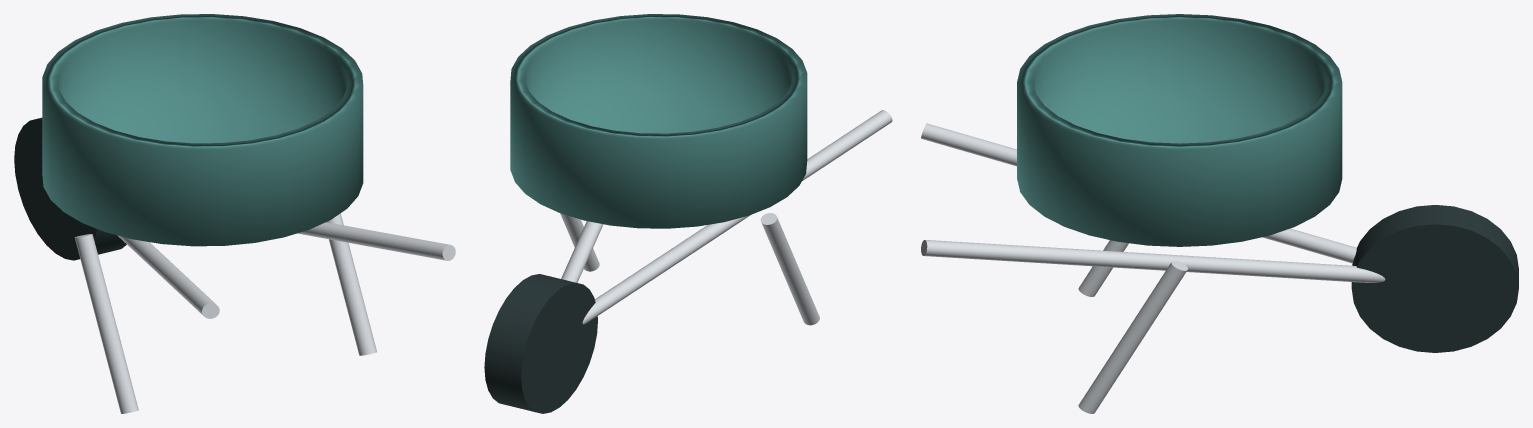
The model's file is wp-brouette.glb.
3 renders of one model, left to right at view 1: azimuth 30°, elevation 25°; view 2: azimuth 150°, elevation 25°; view 3: azimuth 270°, elevation 25°, orthographic. The views are drawn at different scales.
Visible parts, largest first — view 1: wp-brouette; view 2: wp-brouette; view 3: wp-brouette.
Boxes of the visible parts, x1,y1,x2,y2 form: wp-brouette: [14, 14, 455, 413]; wp-brouette: [484, 14, 892, 413]; wp-brouette: [921, 14, 1518, 413].
Bounding box in the file's own units: 0.7 × 0.65 × 1.3.
